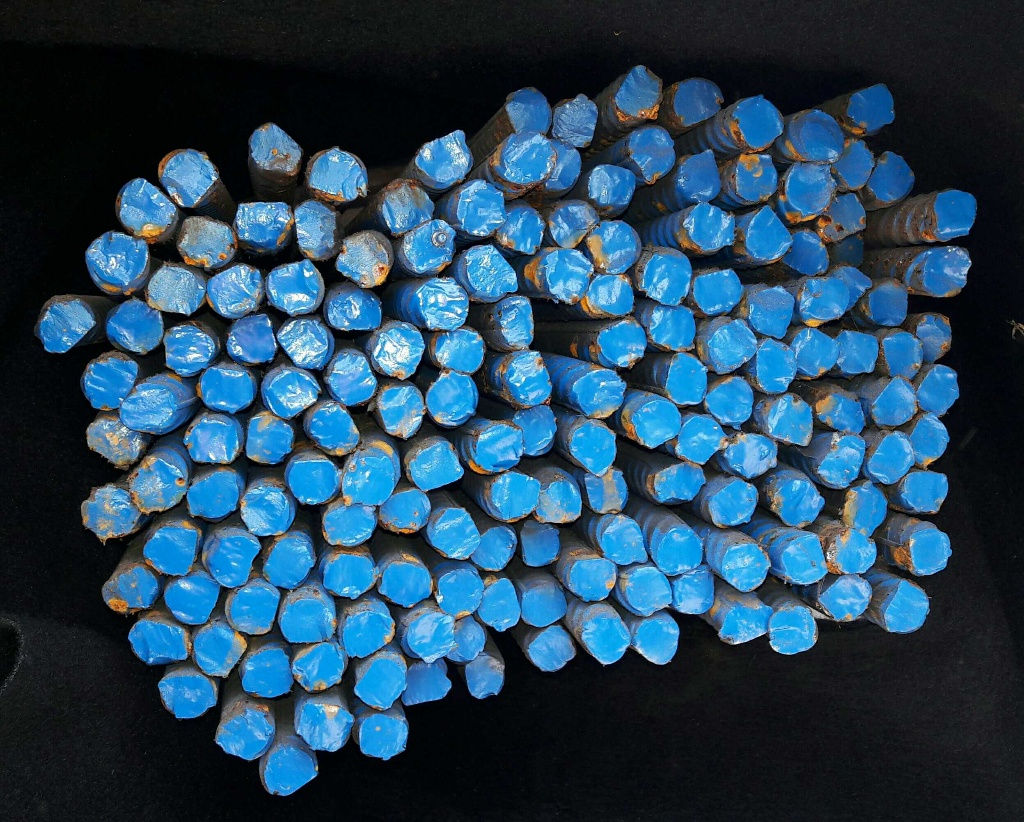dipstick: (86, 231, 150, 294), (116, 178, 175, 242), (34, 295, 96, 353), (335, 230, 395, 288), (158, 149, 217, 207), (416, 129, 472, 185), (205, 264, 264, 317), (305, 148, 367, 198), (130, 458, 186, 513), (106, 298, 163, 352), (381, 178, 434, 236), (81, 357, 138, 410), (178, 217, 236, 269), (403, 217, 457, 272), (586, 220, 641, 274), (426, 371, 479, 427), (216, 708, 273, 760), (266, 259, 319, 314), (501, 131, 556, 184), (465, 245, 518, 300), (80, 485, 137, 536), (789, 110, 844, 162), (296, 201, 344, 260), (165, 573, 220, 624), (148, 265, 205, 314), (121, 385, 178, 434), (277, 319, 334, 368), (262, 536, 315, 588), (249, 123, 301, 176), (193, 626, 247, 677), (296, 704, 353, 752), (457, 179, 505, 236), (236, 203, 294, 250), (427, 507, 479, 559), (417, 278, 469, 330), (373, 326, 424, 379), (86, 420, 144, 466), (101, 566, 159, 612), (353, 659, 405, 710), (409, 442, 463, 491), (128, 620, 188, 664), (504, 352, 552, 407), (630, 124, 675, 182), (342, 456, 394, 506), (573, 369, 625, 419), (708, 320, 757, 373), (143, 527, 197, 575), (545, 250, 593, 304), (548, 200, 599, 250), (229, 583, 278, 635), (734, 96, 783, 148), (264, 747, 317, 795), (323, 499, 377, 546), (569, 424, 616, 478), (745, 206, 792, 260), (818, 432, 865, 486), (164, 325, 214, 375), (209, 536, 259, 586), (293, 643, 344, 692), (309, 404, 360, 453), (643, 253, 691, 305), (266, 371, 319, 418), (186, 471, 239, 518), (818, 574, 871, 621), (327, 355, 376, 405), (343, 611, 395, 658), (505, 86, 552, 138), (616, 66, 662, 119), (158, 675, 216, 717), (868, 431, 913, 485), (197, 367, 252, 411), (818, 194, 867, 243), (243, 648, 293, 696), (379, 562, 431, 608), (281, 598, 335, 642), (407, 613, 455, 662), (674, 77, 723, 125), (792, 327, 839, 377), (499, 204, 545, 255), (786, 163, 832, 214), (884, 581, 929, 633), (322, 553, 375, 597), (554, 94, 598, 147), (510, 406, 557, 455), (632, 400, 681, 447), (769, 607, 818, 654), (246, 414, 292, 464), (782, 534, 828, 584), (869, 150, 914, 201), (378, 490, 430, 534), (750, 287, 794, 339), (478, 578, 521, 631), (241, 487, 289, 534), (475, 424, 523, 471), (625, 569, 673, 616), (655, 529, 703, 576), (598, 319, 646, 366), (677, 416, 724, 464), (438, 569, 484, 618), (527, 625, 576, 671), (583, 615, 629, 664), (288, 459, 338, 504), (186, 420, 237, 464), (843, 485, 887, 536), (725, 434, 777, 477), (769, 393, 812, 445), (648, 303, 695, 350), (722, 545, 769, 592), (773, 480, 820, 527), (227, 316, 275, 362), (491, 474, 539, 520), (401, 662, 451, 706), (757, 339, 797, 394), (381, 386, 423, 438), (653, 462, 706, 503), (717, 606, 774, 644), (328, 289, 382, 329), (359, 713, 408, 757), (710, 480, 759, 524), (687, 203, 734, 248), (782, 231, 829, 276), (924, 248, 969, 295), (520, 583, 568, 627), (631, 620, 679, 664), (695, 269, 743, 313), (873, 377, 917, 425), (434, 330, 483, 373), (815, 392, 865, 434), (494, 297, 534, 349), (666, 353, 706, 405), (918, 364, 958, 416), (602, 518, 647, 564), (848, 84, 894, 129), (800, 279, 848, 322), (472, 525, 517, 570), (707, 377, 753, 421), (827, 532, 876, 573), (680, 152, 720, 202), (583, 470, 628, 514), (673, 566, 714, 614), (909, 414, 948, 464), (537, 478, 581, 522), (736, 155, 778, 201), (935, 190, 976, 237), (588, 164, 635, 204), (835, 140, 872, 190), (835, 330, 878, 373), (571, 559, 615, 601), (902, 472, 947, 513), (910, 530, 950, 576), (882, 333, 923, 377), (590, 275, 635, 315), (545, 139, 580, 190), (917, 313, 951, 365), (520, 522, 560, 566), (466, 652, 504, 698), (447, 614, 484, 661), (869, 282, 908, 326)
